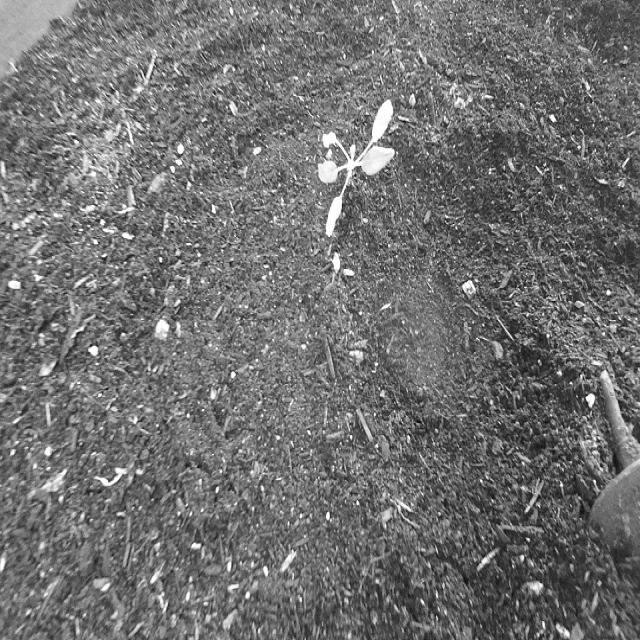Unhealthy: (316, 90, 399, 247)
